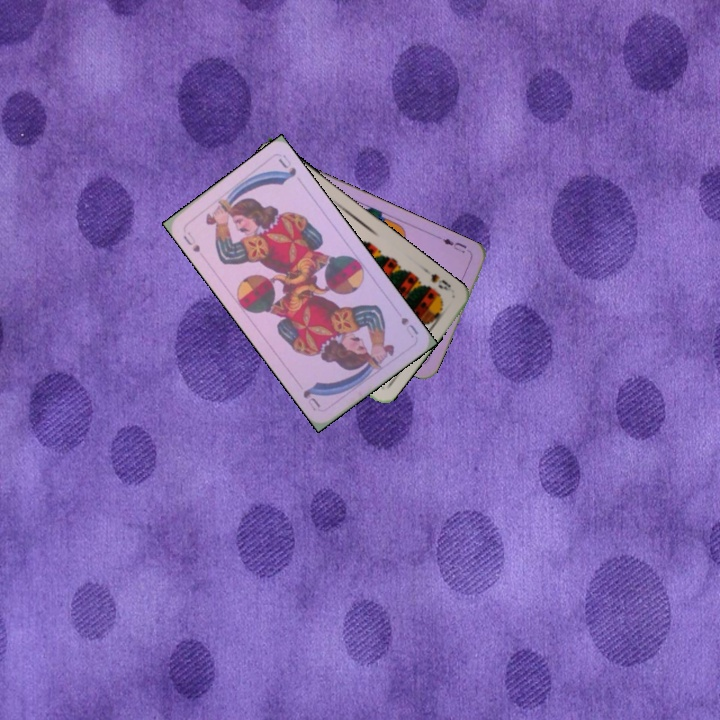EU: (438, 234, 474, 256)
S8: (422, 266, 457, 297)
SU: (179, 227, 203, 255), (397, 313, 421, 340)
